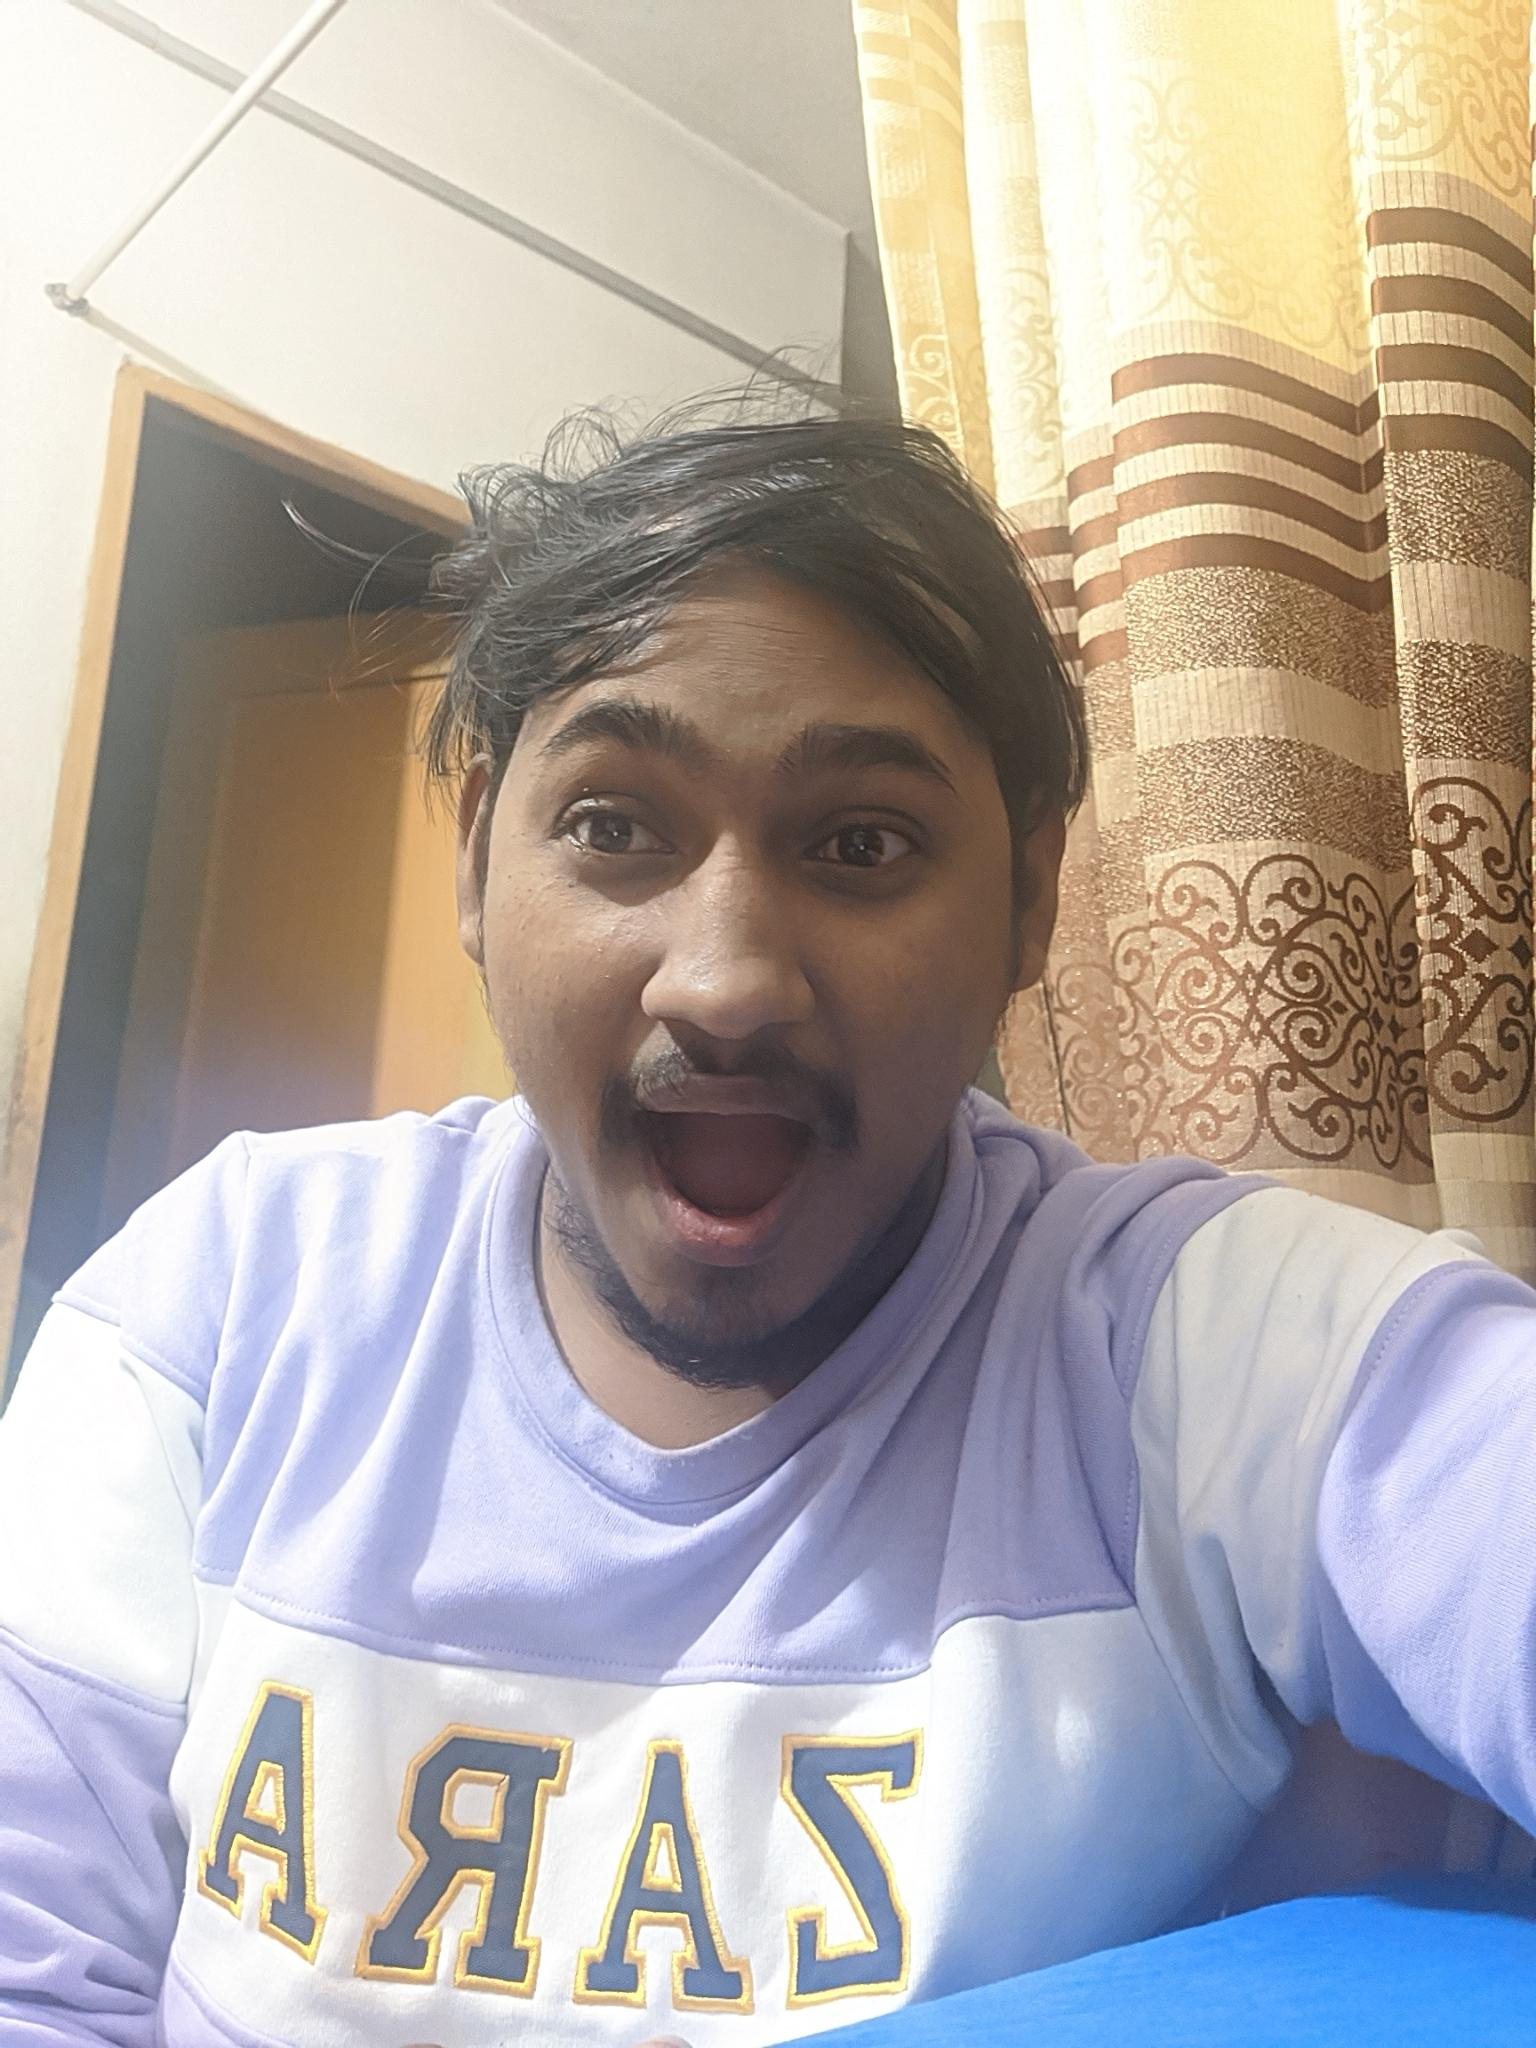Surprise: (442, 627, 1016, 1369)
